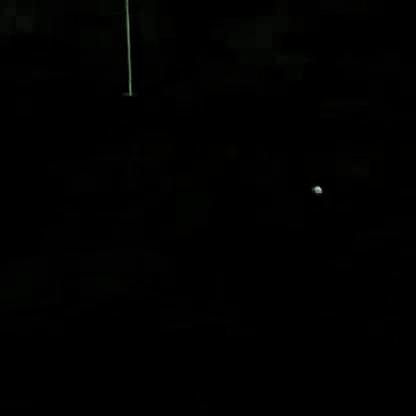golfball: (308, 184, 319, 194)
